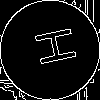H: (25, 25, 78, 70)
